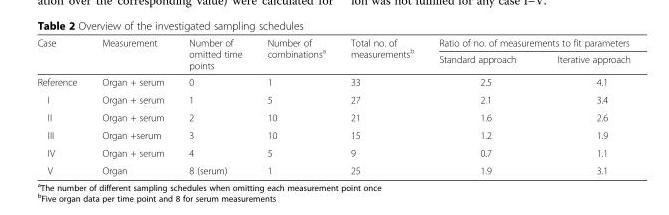table: (36, 36, 629, 175)
table column: (425, 36, 536, 175), (536, 36, 629, 175), (337, 36, 425, 175), (88, 36, 175, 175), (254, 36, 337, 175), (175, 36, 254, 175), (36, 36, 88, 175)
table column header: (36, 36, 629, 73)
table row: (36, 50, 629, 73), (36, 90, 629, 108), (36, 125, 629, 143), (36, 143, 629, 161), (36, 73, 629, 90), (36, 108, 629, 125), (36, 36, 629, 50), (36, 161, 629, 175)
table spanning cell: (337, 36, 425, 73), (88, 36, 175, 73), (254, 36, 337, 73), (175, 36, 254, 73), (425, 36, 629, 50), (36, 36, 88, 73)
